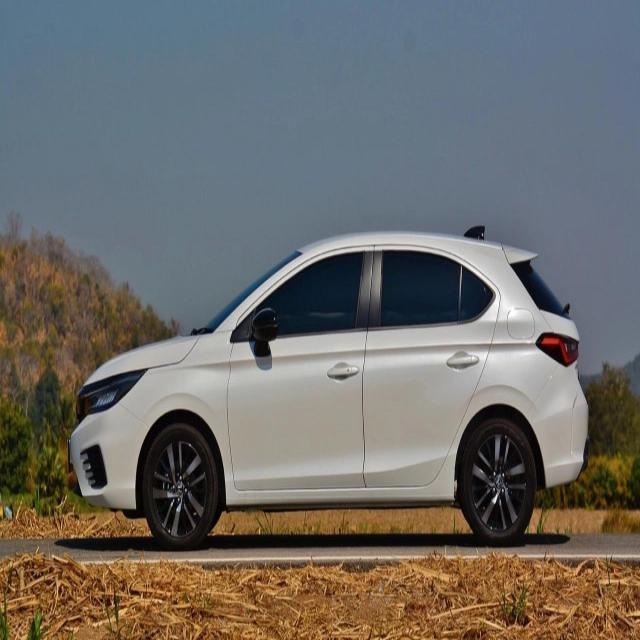Hatchback: (68, 228, 590, 552)
